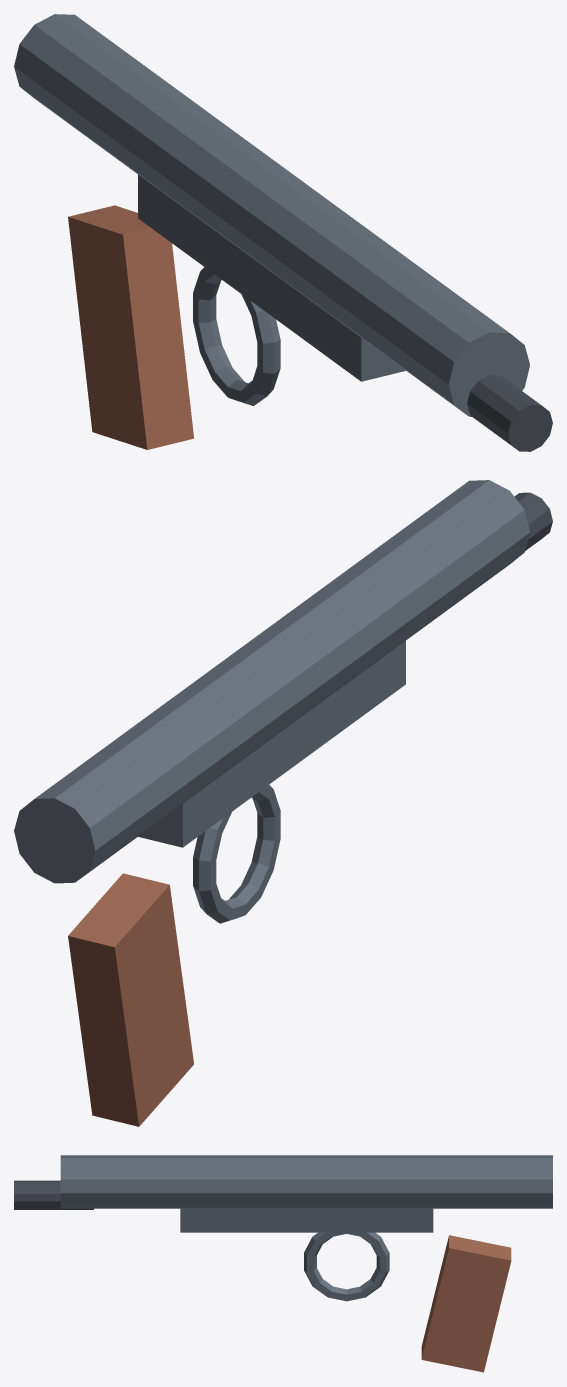
The model's file is weapon_makarov.glb.
3 views of the same model, one above another, from view 1: azimuth 30°, elevation 25°; view 2: azimuth 150°, elevation 25°; view 3: azimuth 270°, elevation 25° (orthographic). The views are drawn at different scales.
Visible parts, largest first — view 1: Vasiliy_Makarov; view 2: Vasiliy_Makarov; view 3: Vasiliy_Makarov.
Boxes of the visible parts, left/top/right/bottom form: Vasiliy_Makarov: left=14, top=14, right=552, bottom=451; Vasiliy_Makarov: left=14, top=480, right=552, bottom=1126; Vasiliy_Makarov: left=14, top=1155, right=552, bottom=1372.
Bounding box in the file's own units: 0.04 × 0.1726 × 0.405.
